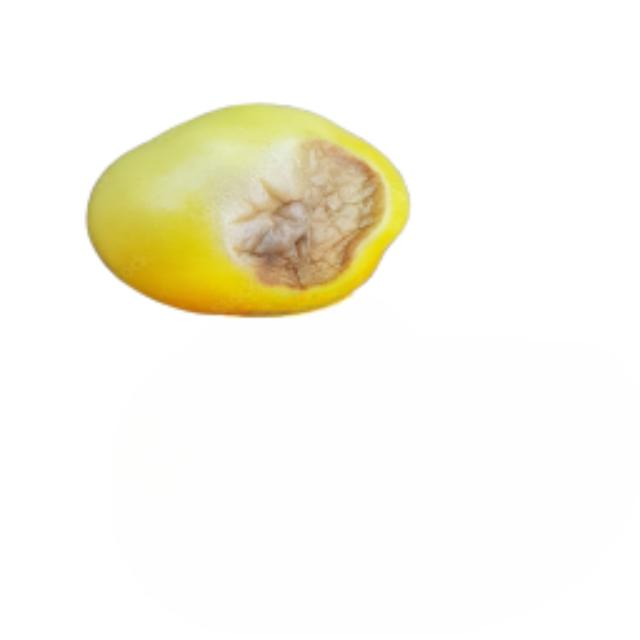defect: (79, 99, 414, 322)
